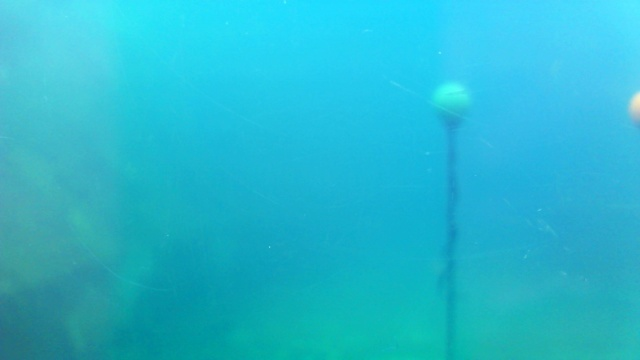buoy_green: (432, 80, 472, 127)
